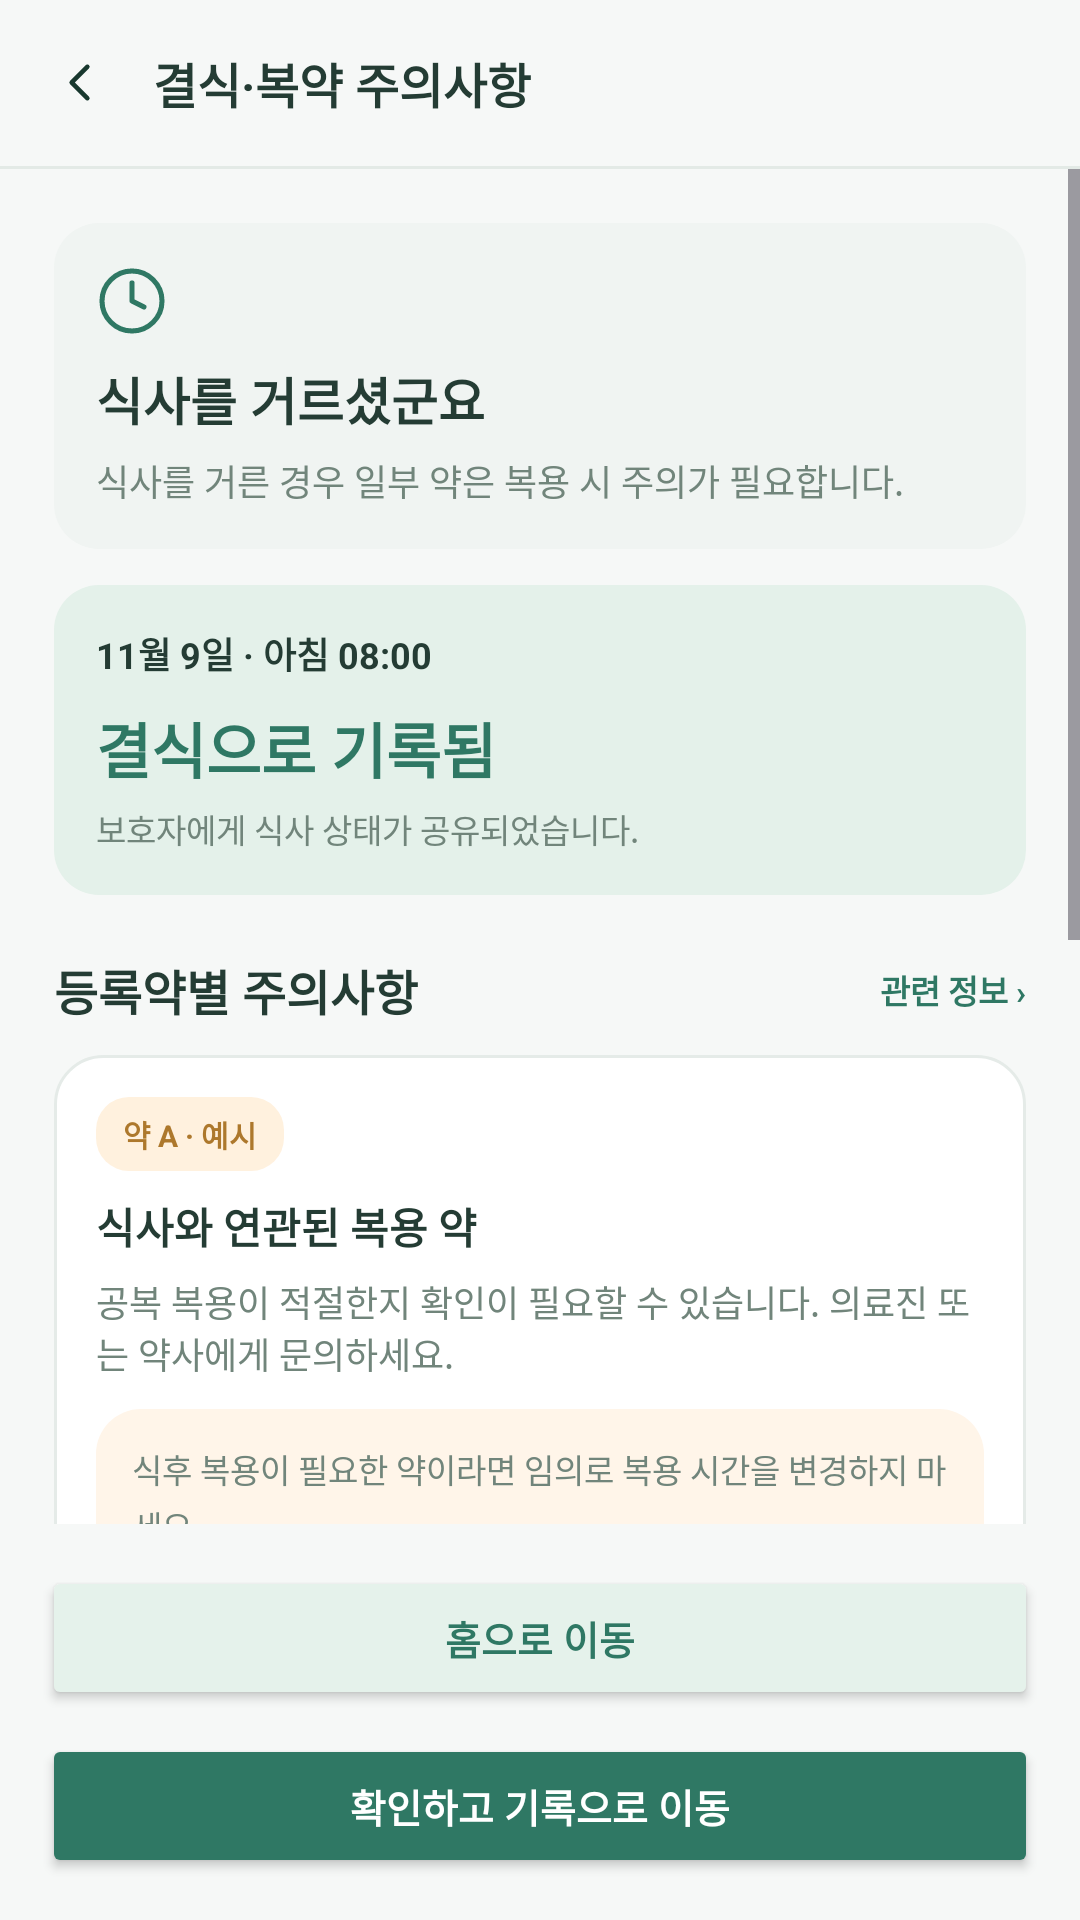

Screen size 1080 x 1920. Icon name, then its box in pixels as (x1, y1, x2, y2):
back: (69, 64, 90, 101)
clock: (99, 268, 165, 334)
